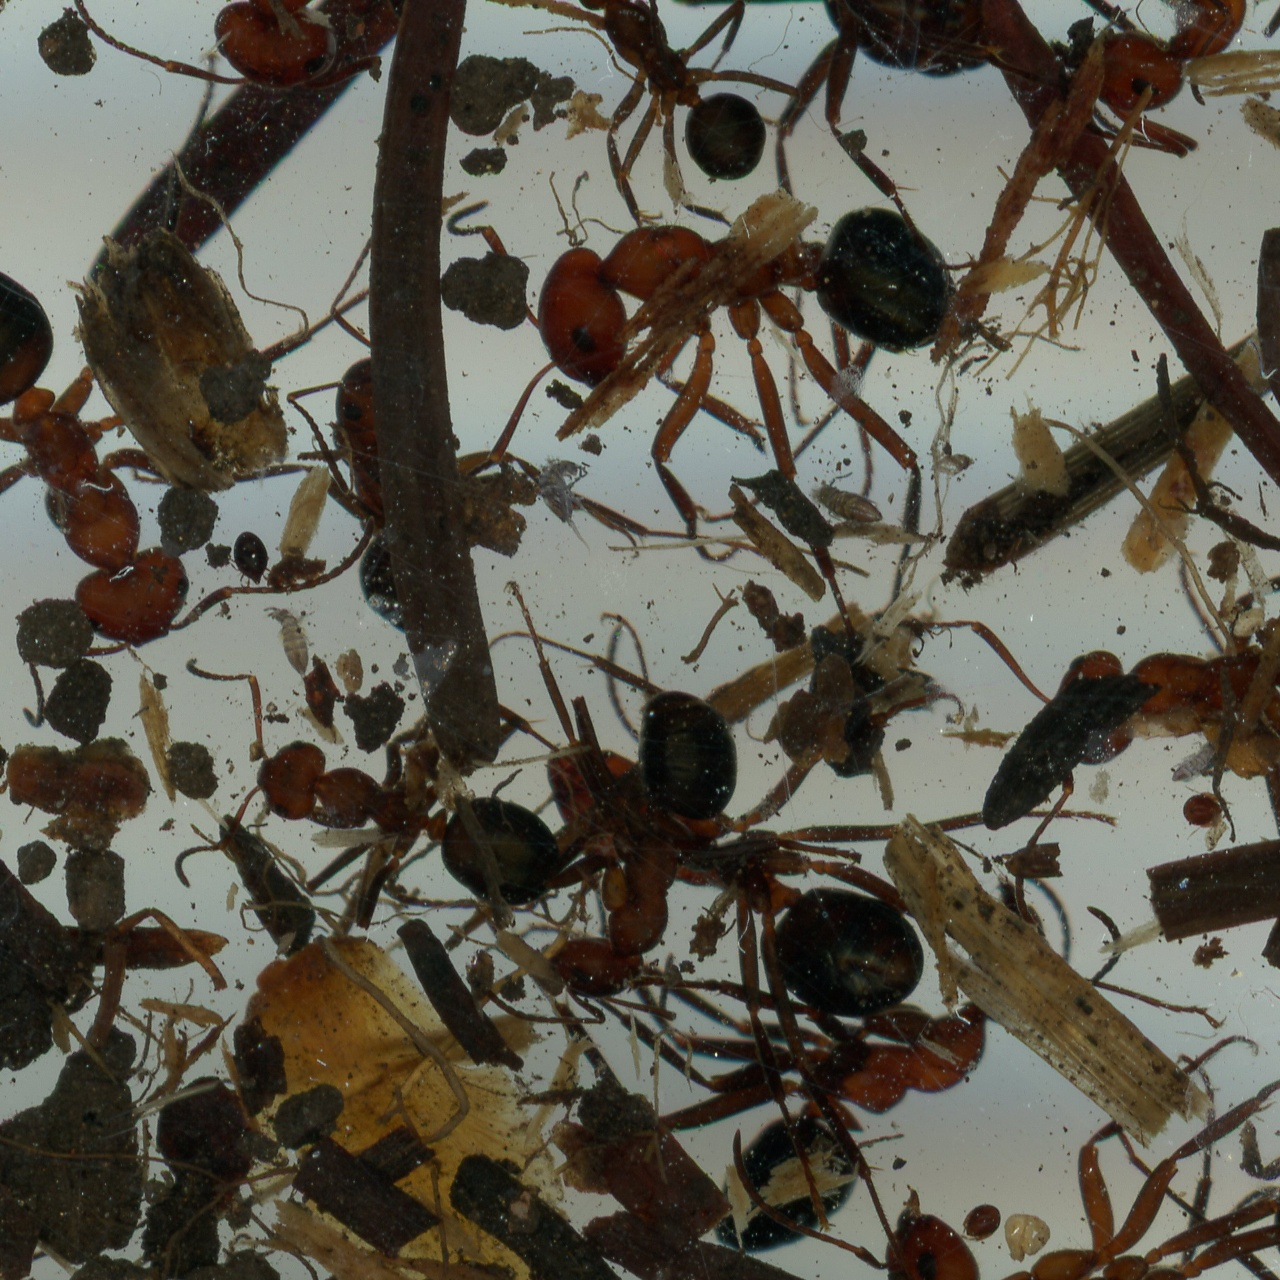arthropod: (473, 626, 1010, 1102), (0, 152, 353, 792), (463, 180, 981, 586), (900, 498, 1280, 929), (211, 301, 576, 697), (719, 1029, 1280, 1280), (456, 646, 764, 1063), (544, 0, 1115, 219), (169, 649, 592, 934), (686, 995, 1003, 1259), (469, 0, 831, 205), (144, 0, 706, 130), (1021, 0, 1280, 196), (1165, 0, 1280, 95), (532, 453, 596, 561), (812, 465, 893, 537), (1159, 729, 1231, 799), (260, 604, 324, 681), (225, 529, 277, 596), (955, 1194, 1010, 1252), (1179, 793, 1231, 831)
